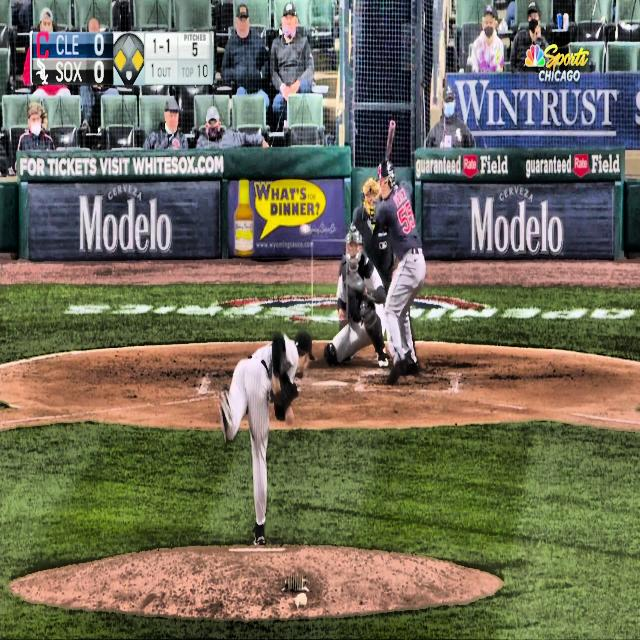baseball: (299, 223, 311, 237)
